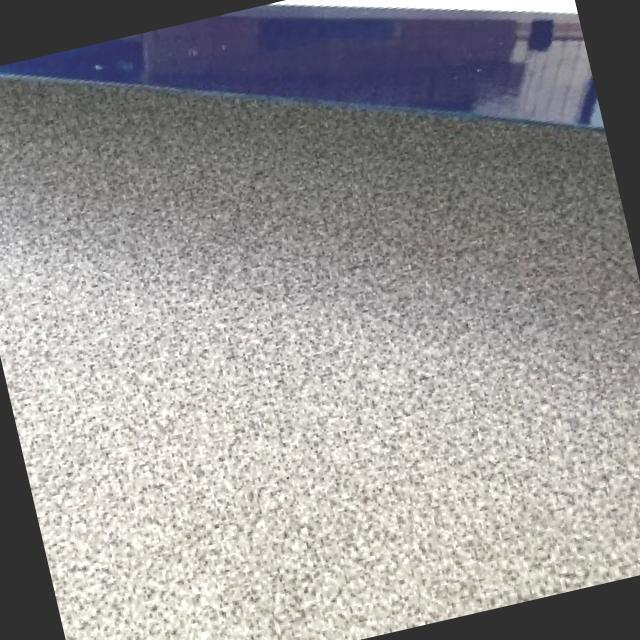healthy: (0, 77, 640, 640), (0, 0, 601, 124)
